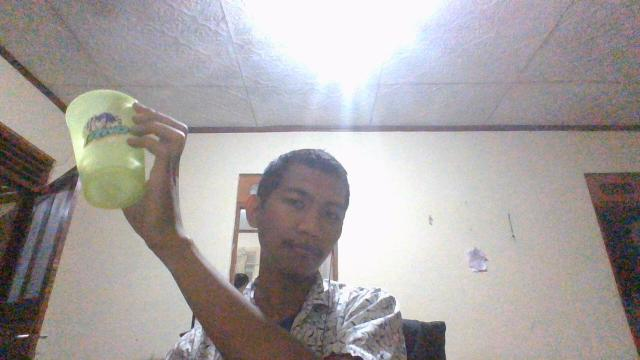botol-hijau: (64, 87, 150, 210)
